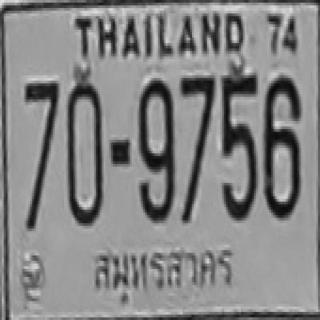N00: (66, 78, 102, 223)
N05: (220, 73, 256, 218)
N06: (262, 74, 299, 216)
N07: (179, 72, 215, 220), (24, 81, 59, 226), (24, 81, 59, 177)
N09: (137, 77, 173, 219)
P58: (88, 243, 239, 296)
